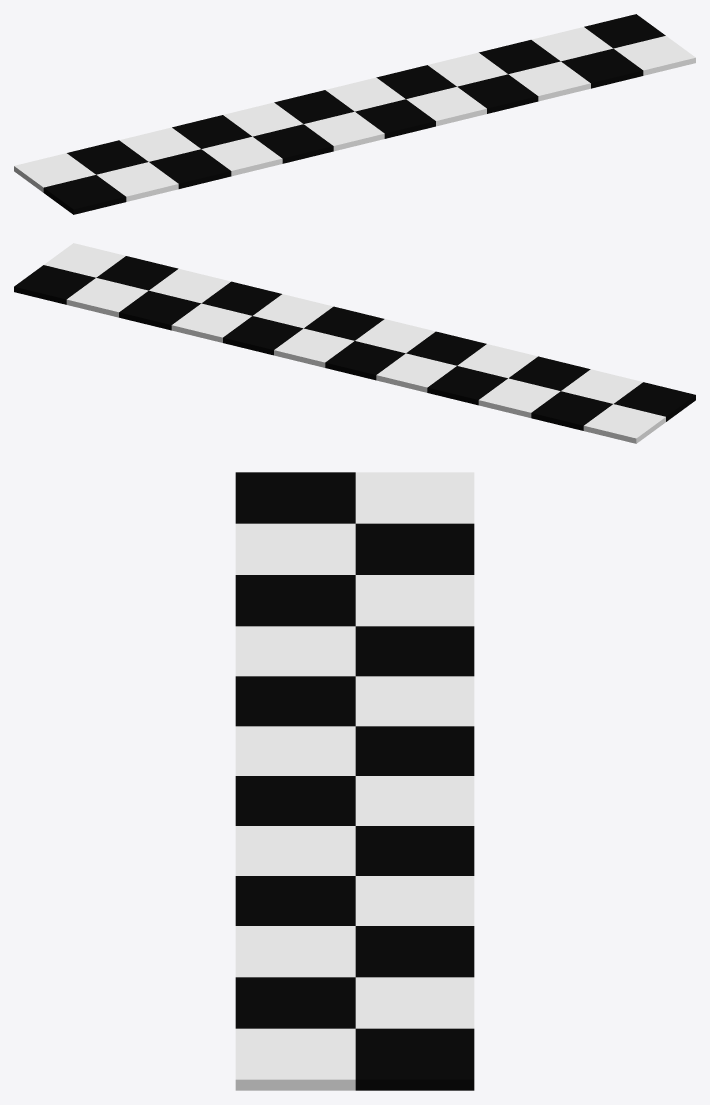
File: roads_finish_tape.FBX
3 renders of one model, top to bottom at view 1: azimuth 30°, elevation 25°; view 2: azimuth 150°, elevation 25°; view 3: azimuth 270°, elevation 25°, orthographic. The views are drawn at different scales.
Parts seen in each view (by area): view 1: roads_finish_tape; view 2: roads_finish_tape; view 3: roads_finish_tape.
Boxes of the visible parts, x1=… form: roads_finish_tape: x1=14, y1=14, x2=695, y2=214; roads_finish_tape: x1=14, y1=243, x2=695, y2=443; roads_finish_tape: x1=235, y1=472, x2=474, y2=1090.
Bounding box in the file's own units: 12.06 × 0.1 × 2.
Materials: 1 (1 with a texture image).
